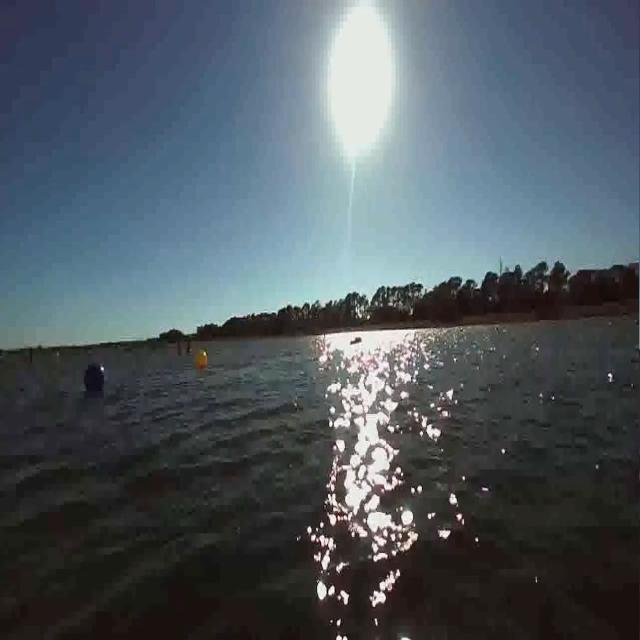black-buoy: (84, 360, 106, 394)
yellow-buoy: (197, 348, 210, 369)
